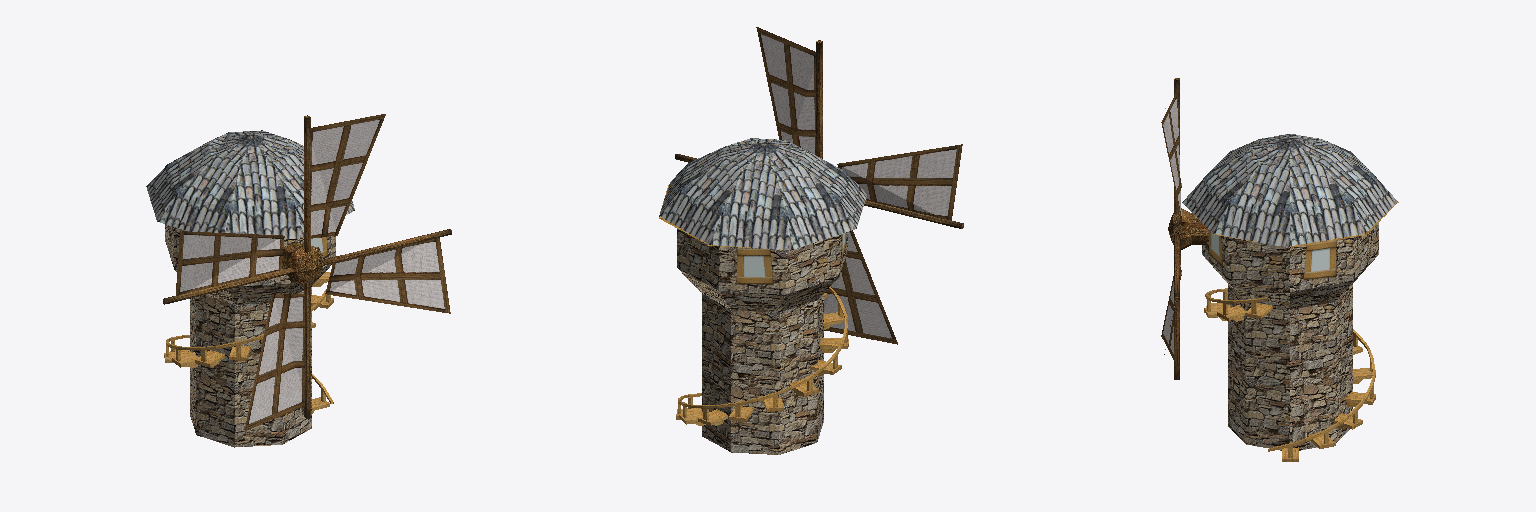
The picture shows the model from 3 angles: view 1: azimuth 30°, elevation 25°; view 2: azimuth 150°, elevation 25°; view 3: azimuth 270°, elevation 25°; orthographic projection.
Parts seen in each view (by area): view 1: Cylinder001, Cylinder002; view 2: Cylinder001, Cylinder002; view 3: Cylinder001, Cylinder002.
Part boxes in pixels (x1,y1,x2,y2): Cylinder001: (146,130,354,447); Cylinder002: (163,114,451,431); Cylinder001: (659,138,866,454); Cylinder002: (675,27,963,344); Cylinder001: (1182,134,1398,461); Cylinder002: (1161,78,1208,379).
Size of the model in its own units: 1263 by 1490 by 906.
2 materials, 2 textured.